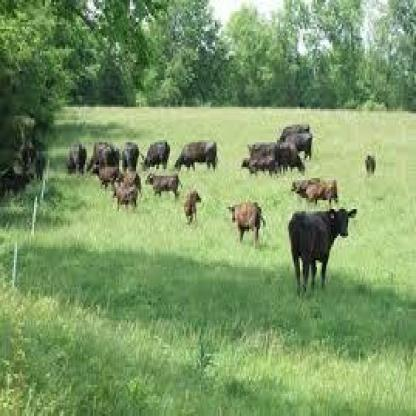cow: (286, 205, 357, 296), (228, 200, 268, 249), (172, 139, 218, 175), (139, 139, 172, 172), (145, 171, 183, 198), (304, 179, 338, 206), (240, 155, 278, 179), (277, 146, 306, 177), (289, 178, 322, 205), (284, 132, 313, 162), (182, 186, 203, 226), (117, 142, 144, 172), (65, 141, 87, 177), (112, 187, 143, 209), (276, 124, 310, 144), (93, 164, 119, 190), (90, 139, 109, 170), (117, 170, 143, 192), (246, 141, 278, 157), (101, 147, 119, 167), (363, 153, 376, 178)
